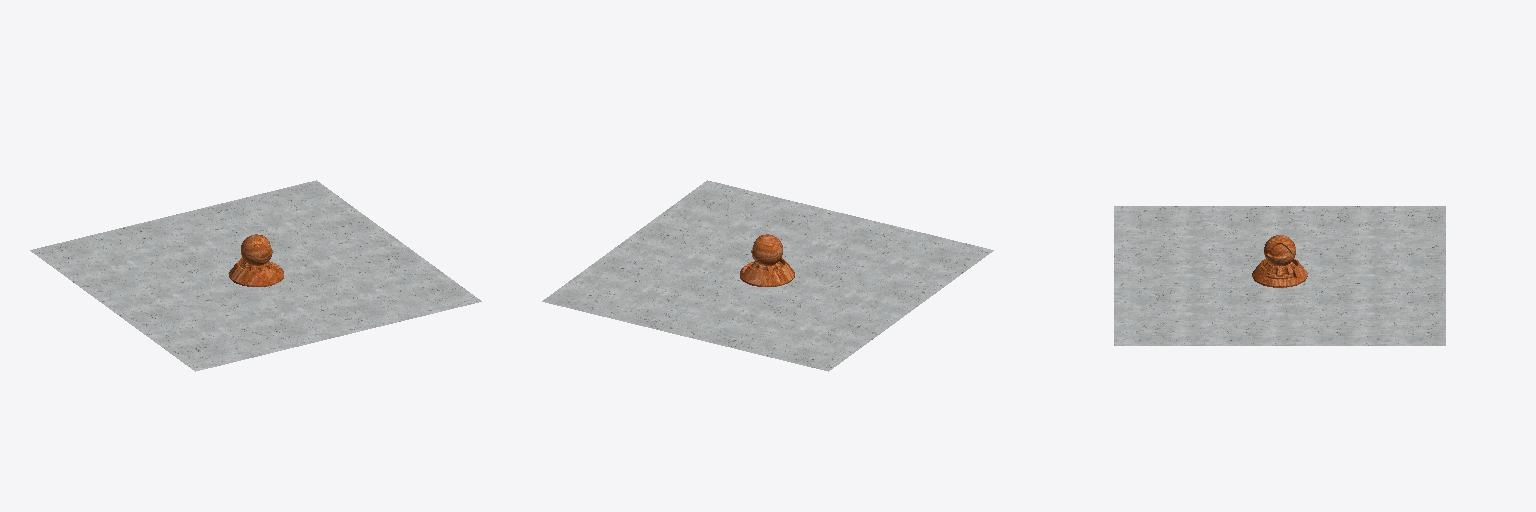
3 renders of one model, left to right at view 1: azimuth 30°, elevation 25°; view 2: azimuth 150°, elevation 25°; view 3: azimuth 270°, elevation 25°, orthographic.
Visible parts, largest first — view 1: Plane, Cylinder, Icosphere; view 2: Plane, Cylinder, Icosphere; view 3: Plane, Icosphere, Cylinder.
Boxes of the visible parts, x1=… form: Plane: x1=30, y1=180, x2=481, y2=371; Cylinder: x1=229, y1=258, x2=283, y2=286; Icosphere: x1=241, y1=234, x2=272, y2=265; Plane: x1=542, y1=180, x2=993, y2=371; Cylinder: x1=740, y1=258, x2=794, y2=286; Icosphere: x1=751, y1=234, x2=782, y2=265; Plane: x1=1114, y1=206, x2=1445, y2=345; Icosphere: x1=1264, y1=235, x2=1295, y2=265; Cylinder: x1=1252, y1=259, x2=1307, y2=287.
Bounding box in the file's own units: 4.08 × 0.5418 × 4.08.
2 materials, 2 textured.